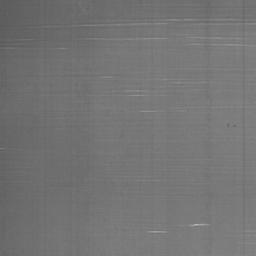Waist folding: (44, 17, 256, 47), (107, 89, 183, 114), (0, 46, 67, 51), (124, 228, 167, 235), (202, 122, 237, 129), (73, 74, 113, 80), (113, 178, 160, 183), (181, 221, 210, 228), (174, 81, 207, 85)
